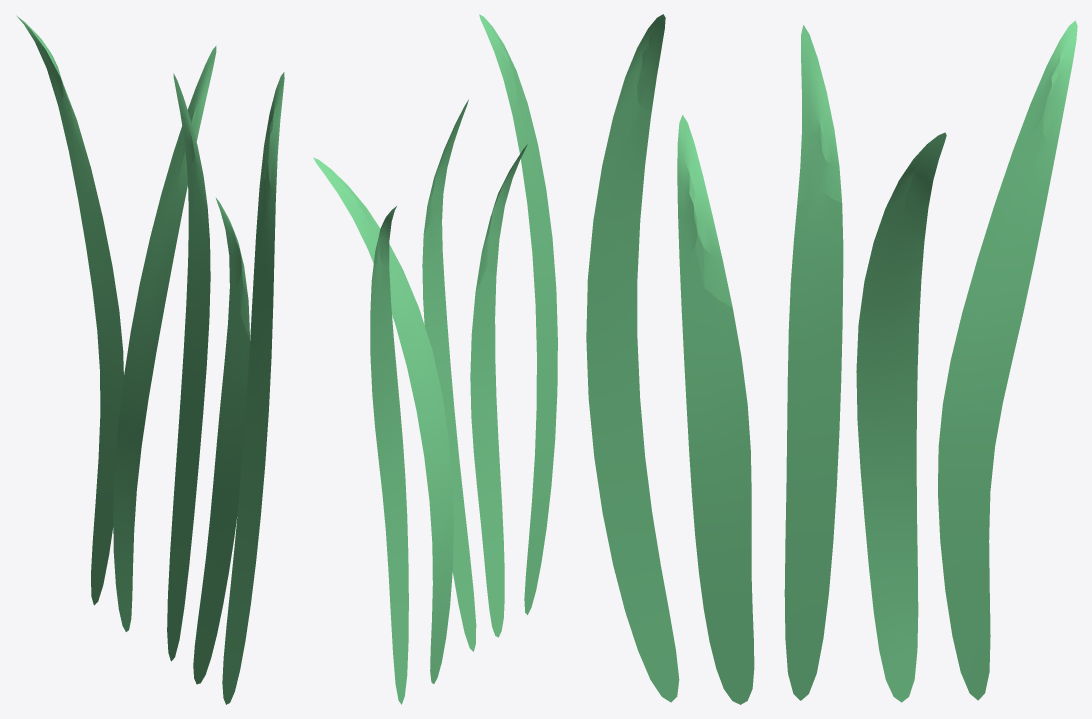
Rendered from grass1_v4.fbx.
The picture shows the model from 3 angles, left to right: view 1: azimuth 30°, elevation 25°; view 2: azimuth 150°, elevation 25°; view 3: azimuth 270°, elevation 25°; orthographic projection. The views are drawn at different scales.
Visible parts, largest first — view 1: Plane.005; view 2: Plane.005; view 3: Plane.005.
Part boxes in pixels (bbox=[...]): Plane.005: bbox=[16, 15, 284, 704]; Plane.005: bbox=[313, 14, 557, 704]; Plane.005: bbox=[586, 14, 1077, 704].
Bounding box in the file's own units: 55.34 × 226 × 140.
